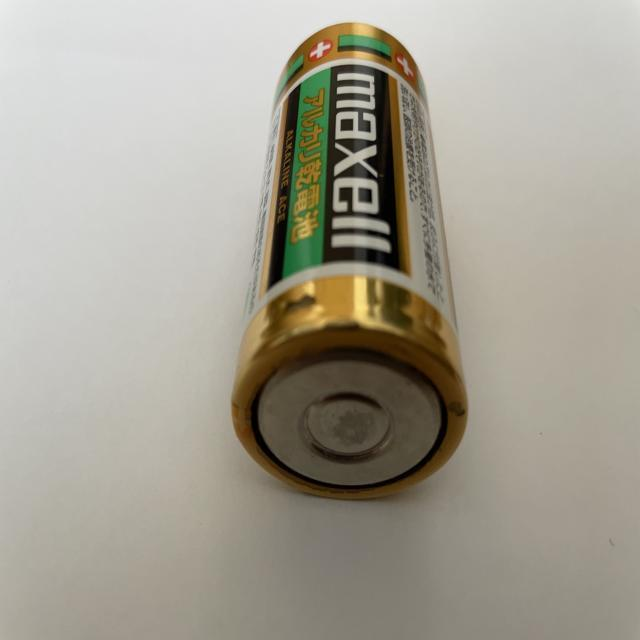Hazard: (226, 22, 469, 506)
